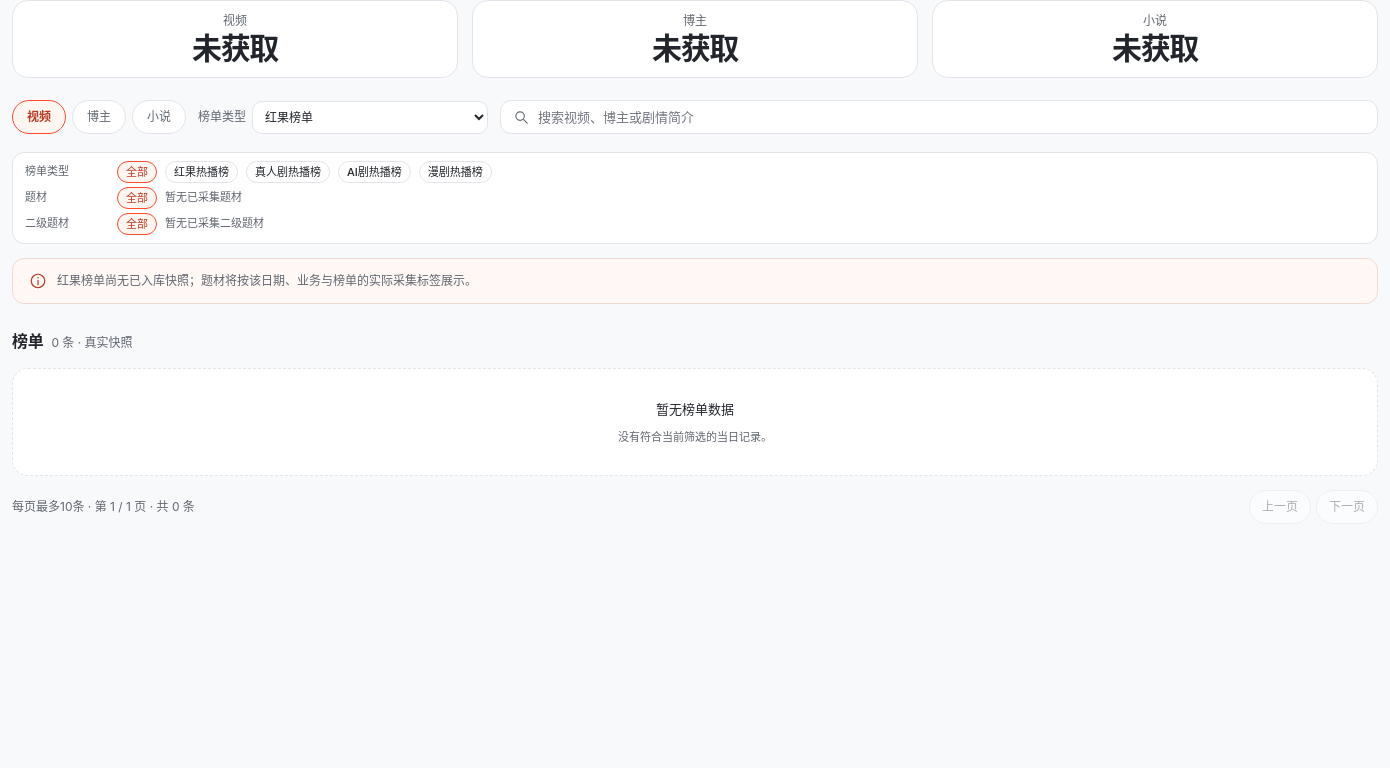
Test: 真实情报流 › 保留榜单达人互斥、搜索与洞察收展，查询带精确业务日期
Expected: the text "红果榜单尚无已入库快照；题材将按该日期、业务与榜单的实际采集标签展示。" is shown, top-left (57, 271), bottom-right (477, 291)
Click the button "博主" at point(99, 117), box top-left (72, 100), bottom-right (126, 134)
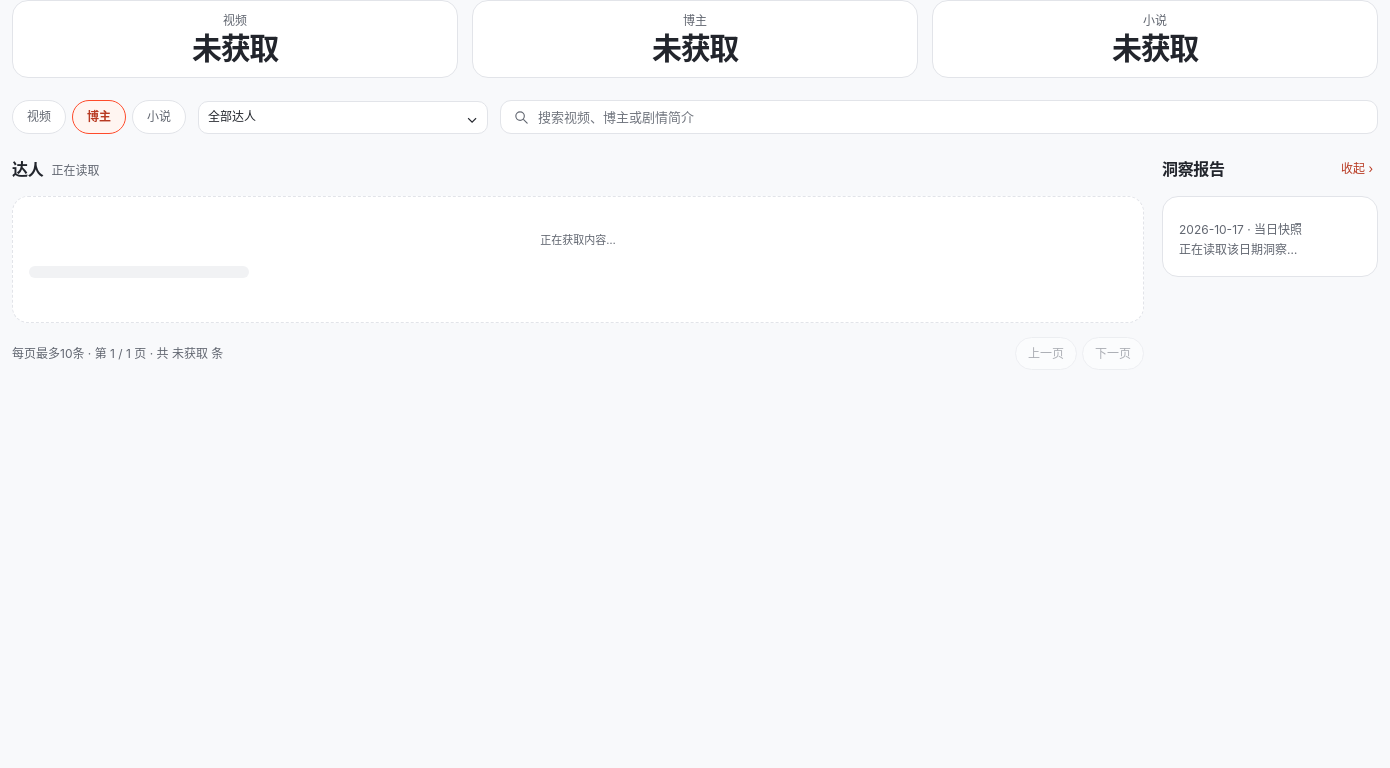
Result: the button "全部达人 ⌄" is shown at top-left (198, 100), bottom-right (488, 134)
Type "漫剧" into the field named "搜索当前工作区" at point(952, 117), box top-left (538, 102), bottom-right (1365, 132)
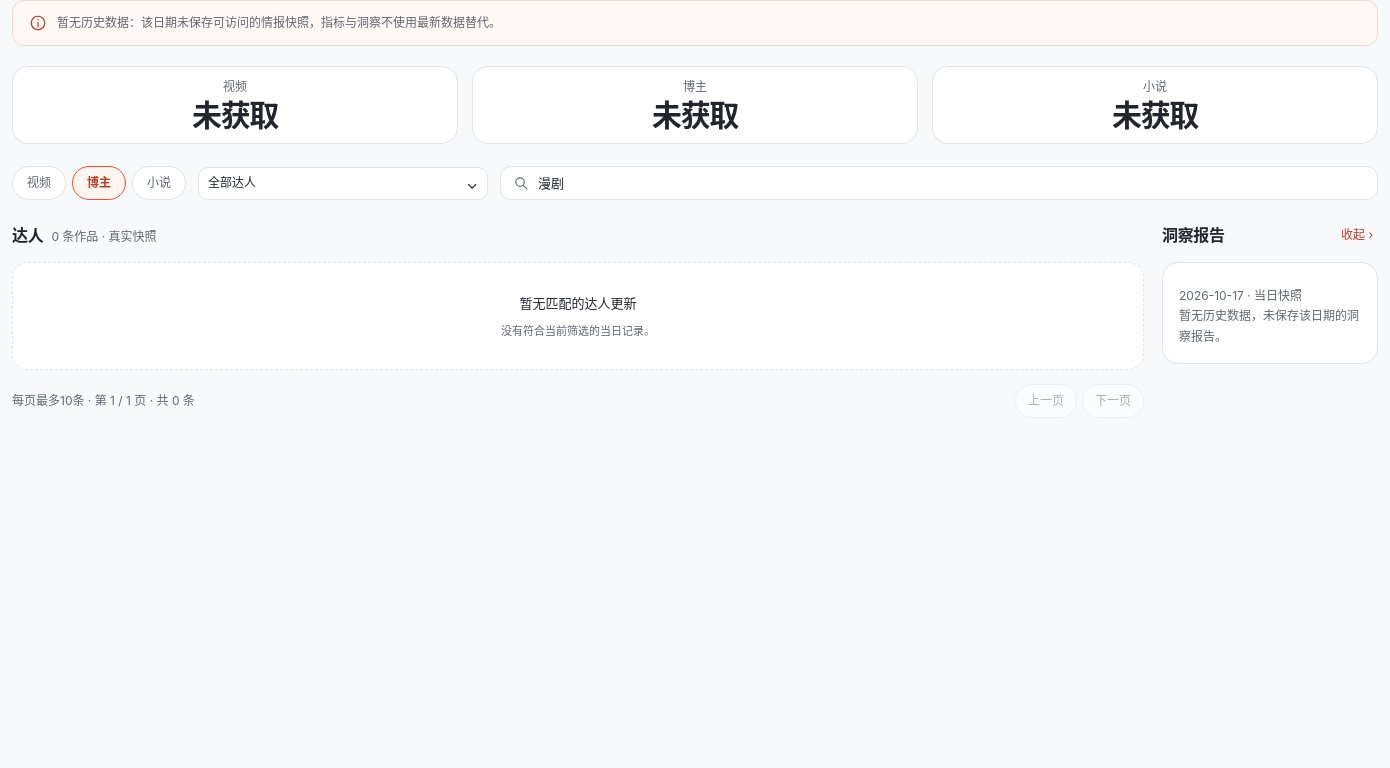
Click the button with aria-label "收起洞察报告" at point(1357, 235), box top-left (1336, 222), bottom-right (1378, 249)
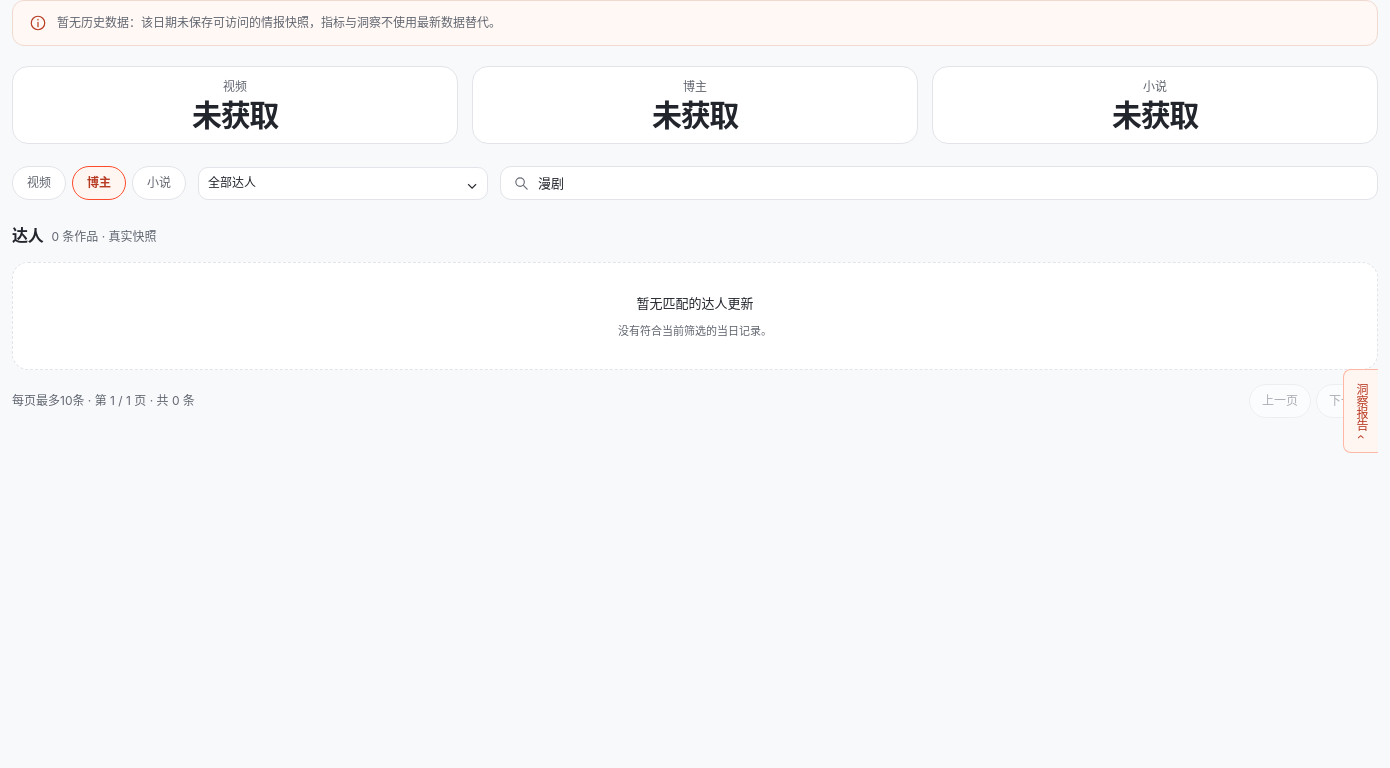
Result: the button with aria-label "展开洞察报告" is shown at top-left (1343, 369), bottom-right (1378, 453)
